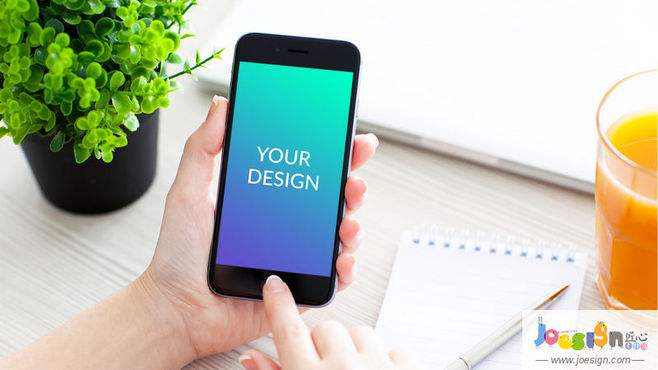phone: (135, 22, 388, 339)
